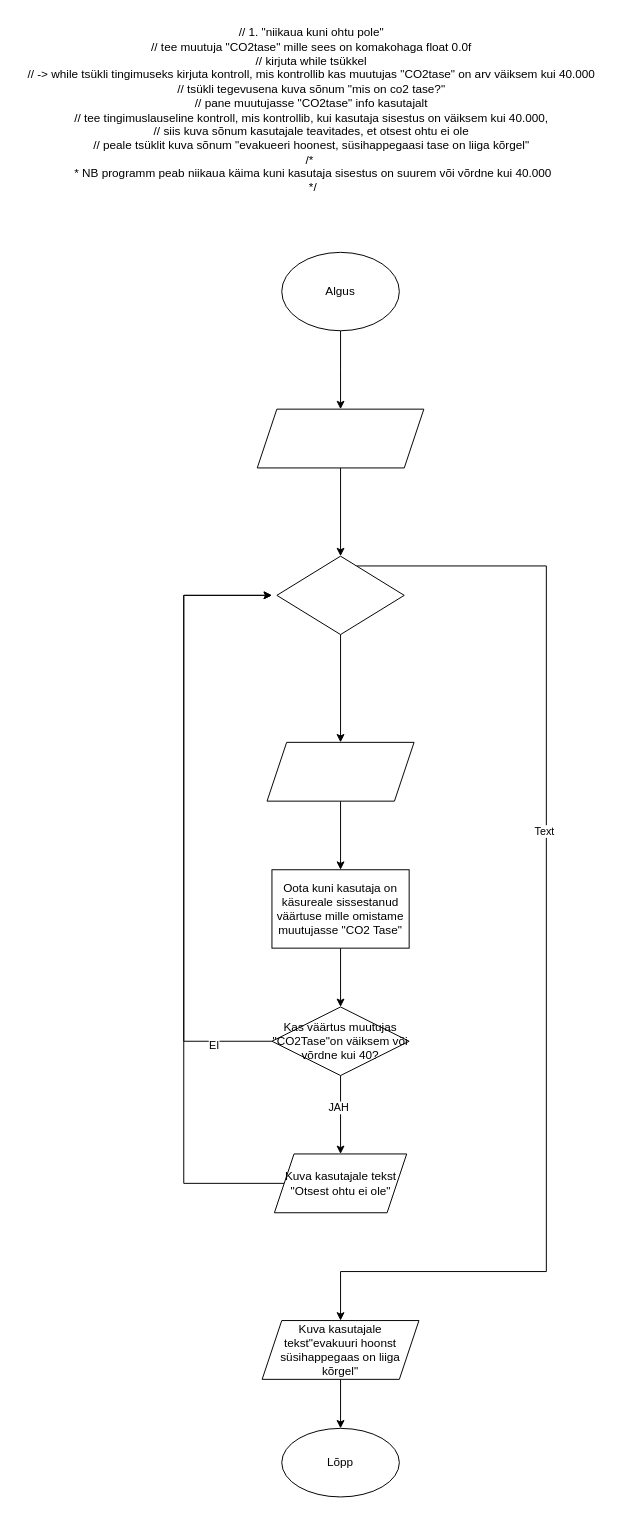
This 621x1514 diagram has some shape labels left out. The centre of each missing label's shape, as x and y in pixels:
Kas CO2 tase on väiksem kui 40.000: the point at 340,595
Kuvame kasutajale teksti "Mis on Co2 tase": the point at 340,771
Tekitame muutja "Co2 tase"mille omistame sisse float 0.0f: the point at 340,438
